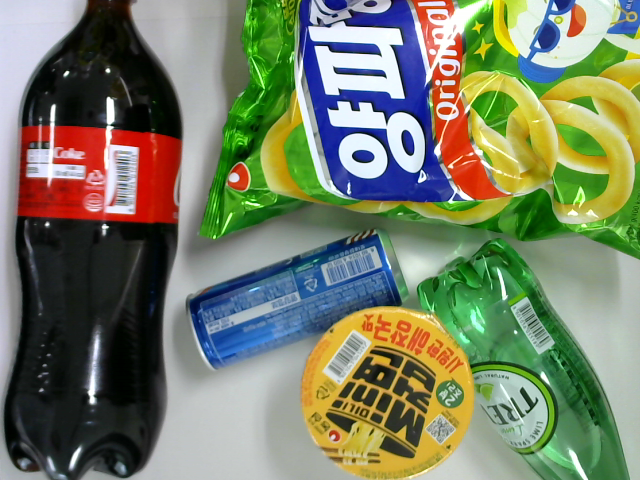Coca_Cola_1.5L: (2, 1, 185, 480)
Hejangmini: (300, 304, 473, 480)
Oninon_Ring: (196, 1, 640, 261)
Pepsi_Cola_Can_250ml: (185, 225, 415, 371)
Treviraim_500ml: (415, 238, 636, 480)
